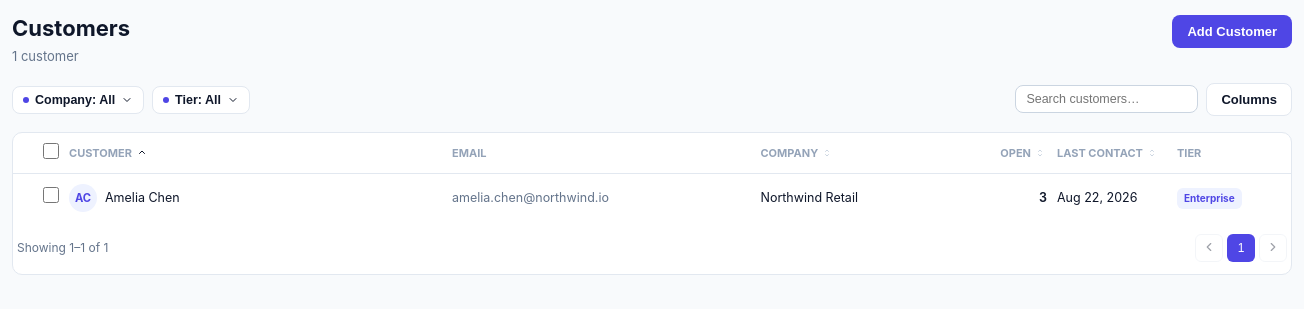
Scenario: CustomersPage › hides destructive bulk actions from an agent
The image size is (1304, 309).
Expected: the text "Amelia Chen" is shown, x1=105 y1=190 x2=180 y2=205
Click the checkbox named "Select Amelia Chen" at point(51, 195), box x1=43 y1=187 x2=59 y2=203
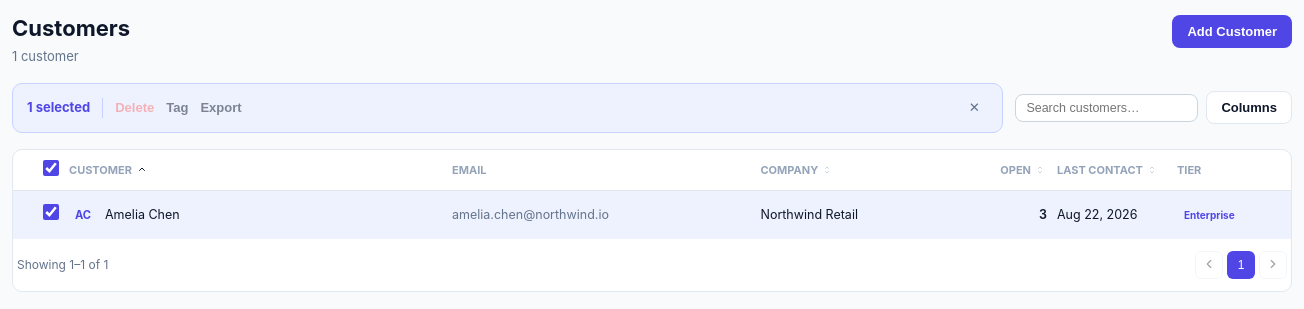
Result: the text "1 selected" is shown at x1=27 y1=98 x2=90 y2=117
Result: the button "Delete" is disabled at x1=115 y1=100 x2=154 y2=115
